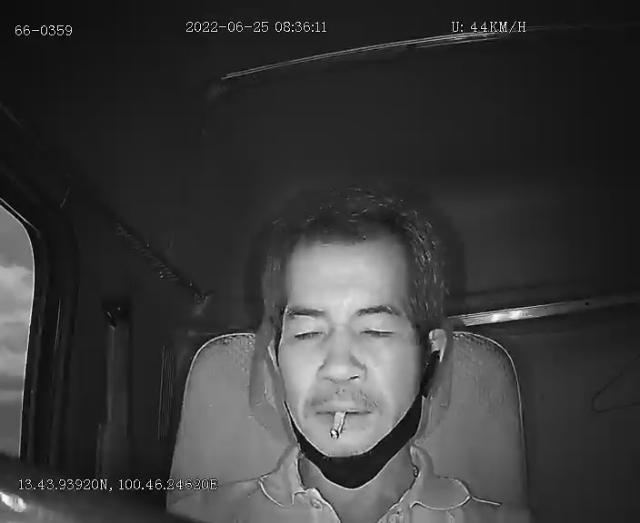Cigarette: (330, 412, 346, 438)
